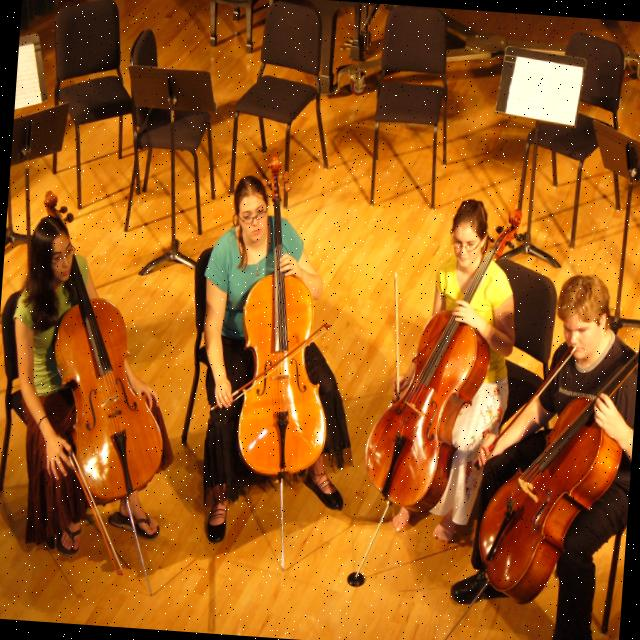cello: (358, 198, 525, 522), (20, 190, 185, 510), (473, 332, 640, 614), (232, 152, 346, 484)
